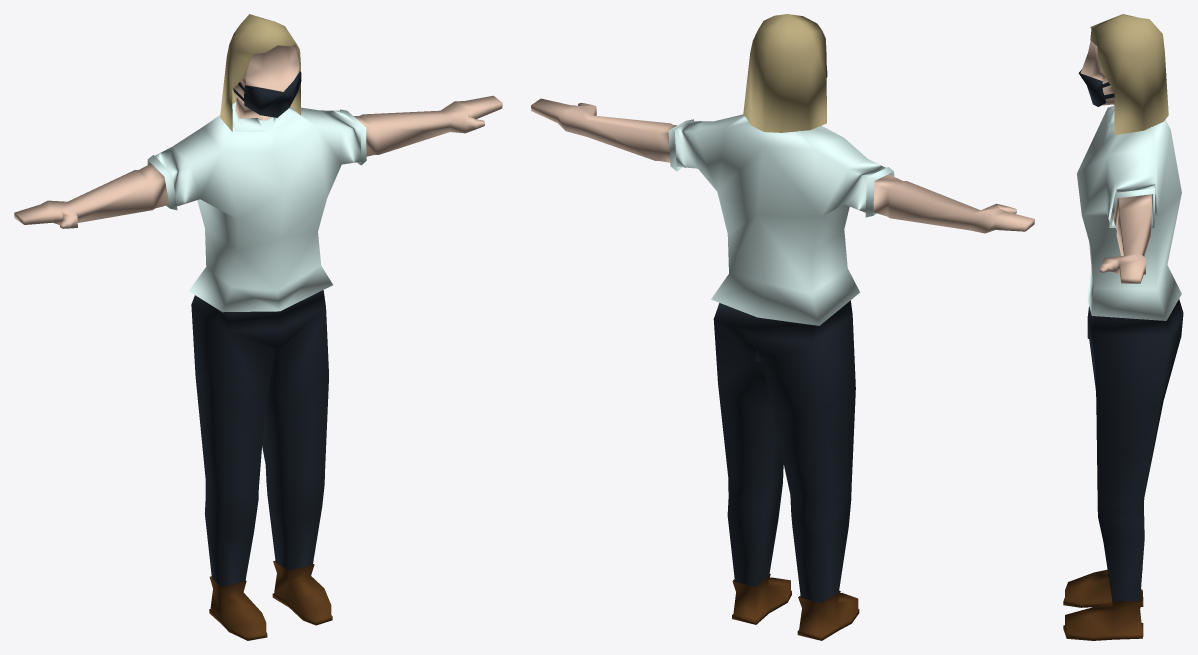
File: receptionist.fbx
The picture shows the model from 3 angles, left to right: view 1: azimuth 30°, elevation 25°; view 2: azimuth 150°, elevation 25°; view 3: azimuth 270°, elevation 25°; orthographic projection. The views are drawn at different scales.
Visible parts, largest first — view 1: Cube; view 2: Cube; view 3: Cube.
Part boxes in pixels (<box>): Cube: <box>14,14,502,640</box>; Cube: <box>531,14,1034,640</box>; Cube: <box>1063,14,1183,640</box>.
Bounding box in the file's own units: 1271 × 1497 × 270.
